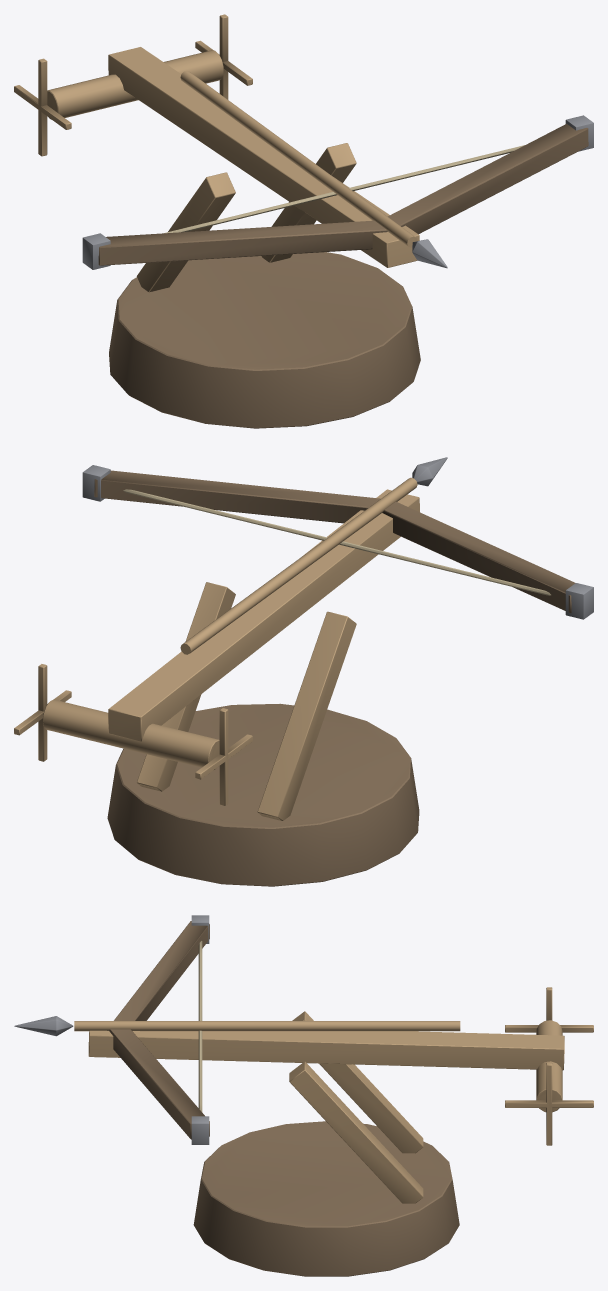
File: dh_ballista.glb
The picture shows the model from 3 angles, top to bottom: view 1: azimuth 30°, elevation 25°; view 2: azimuth 150°, elevation 25°; view 3: azimuth 270°, elevation 25°; orthographic projection. The views are drawn at different scales.
Parts seen in each view (by area): view 1: dh_ballista, bolt; view 2: dh_ballista, bolt; view 3: dh_ballista, bolt.
Boxes of the visible parts, x1,y1,x2,y2 form: dh_ballista: [14, 14, 593, 428]; bolt: [180, 70, 447, 268]; dh_ballista: [14, 465, 593, 886]; bolt: [180, 457, 447, 654]; dh_ballista: [88, 915, 593, 1276]; bolt: [14, 1016, 460, 1036].
Size of the model in its own units: 3.32 by 1.51 by 3.91.
